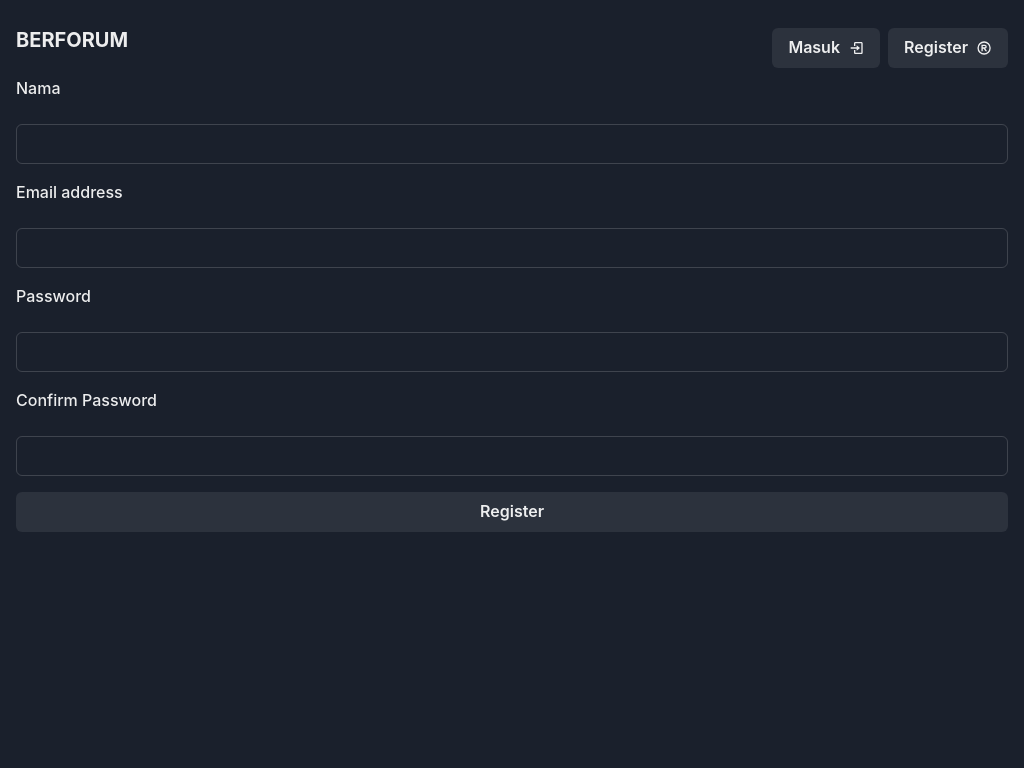
Scenario: Register Scenario › Input should have error
Click the button "Register" below "Confirm Password".
click(512, 512)  # box [16,492,1008,532]
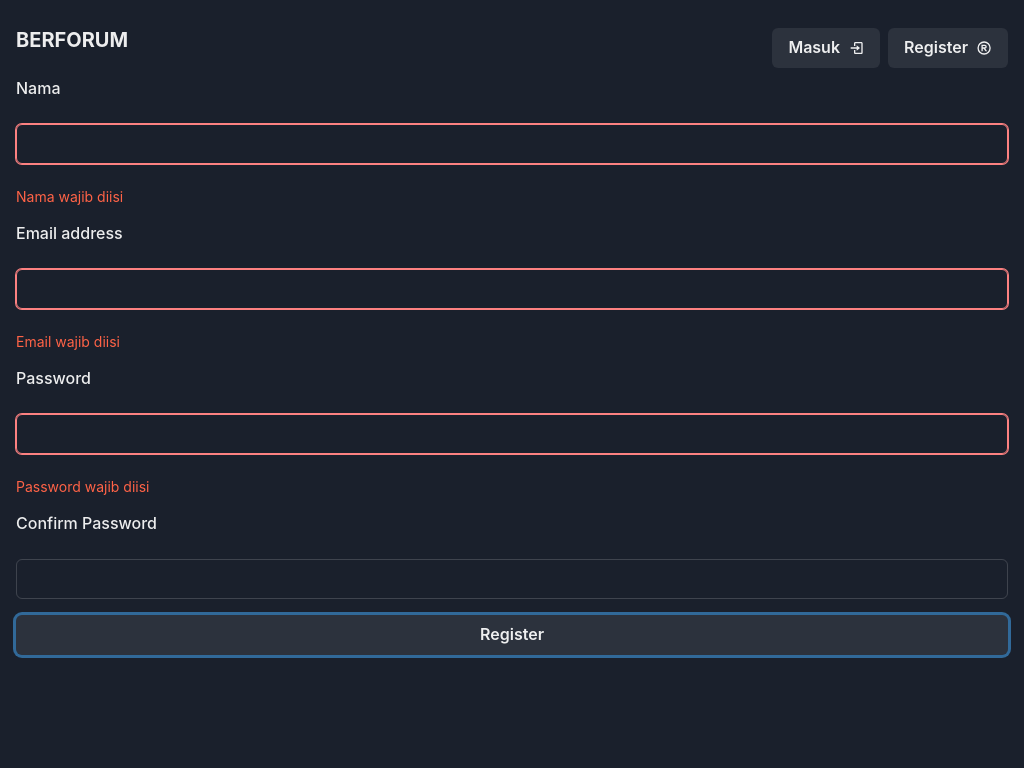
Now the text "Nama wajib diisi" is shown, box [16,188,123,205]
Now the text "Email wajib diisi" is shown, box [16,333,120,350]
Now the text "Password wajib diisi" is shown, box [16,478,150,495]
